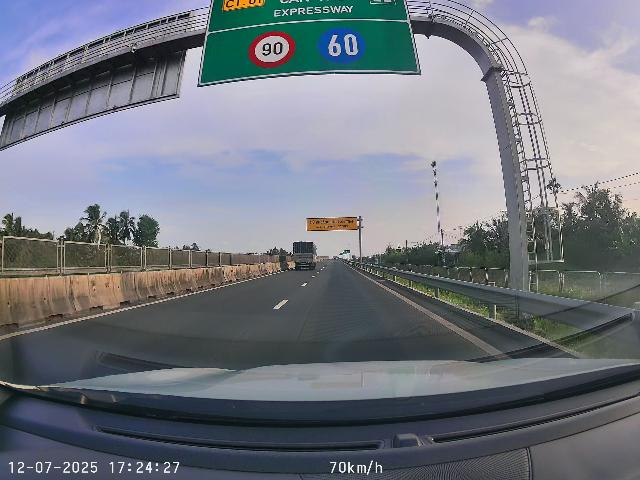127-toc-do-toi-da-90: (248, 30, 297, 69)
306-toc-do-toi-thieu-60: (317, 25, 366, 64)
